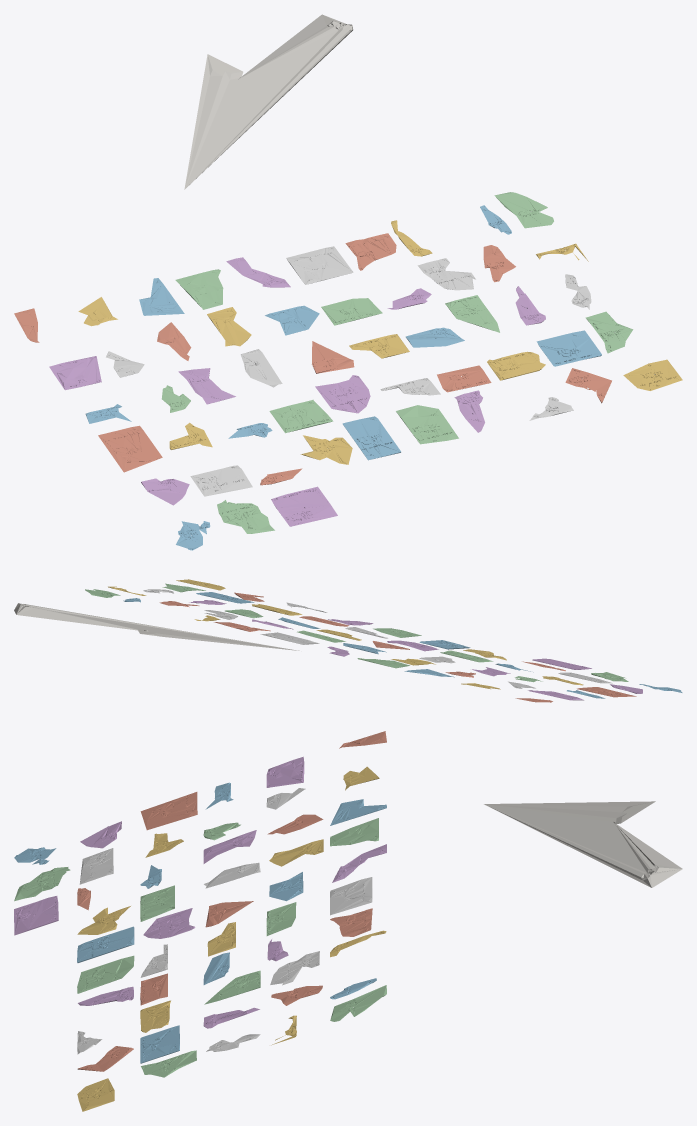
File: eclipse-2017.glb
3 renders of one model, top to bottom at view 1: azimuth 30°, elevation 25°; view 2: azimuth 150°, elevation 25°; view 3: azimuth 270°, elevation 25°, orthographic. The views are drawn at different scales.
Visible parts, largest first — view 1: Wyoming.stl; view 2: Wyoming.stl; view 3: Wyoming.stl.
Part boxes in pixels (<box>): Wyoming.stl: <box>14,14,682,550</box>; Wyoming.stl: <box>14,579,682,702</box>; Wyoming.stl: <box>14,731,682,1111</box>.
Size of the model in its own units: 0.9054 by 0.3342 by 0.9097.
